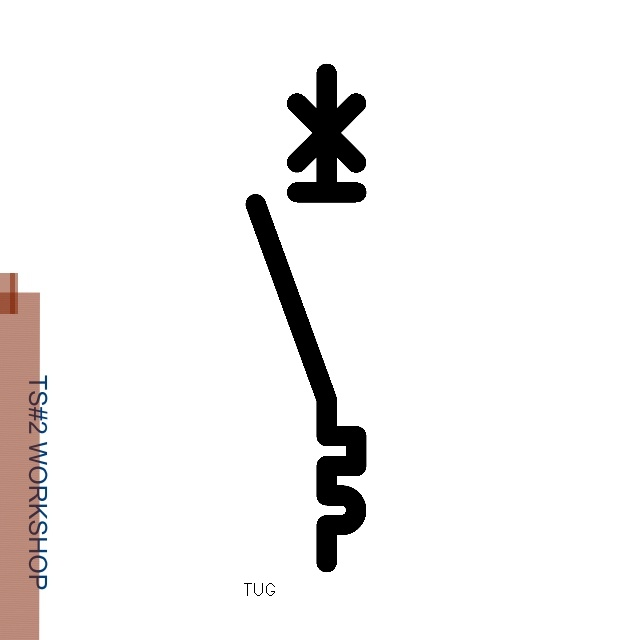interruptor_termomagnetico: (243, 61, 369, 575)
